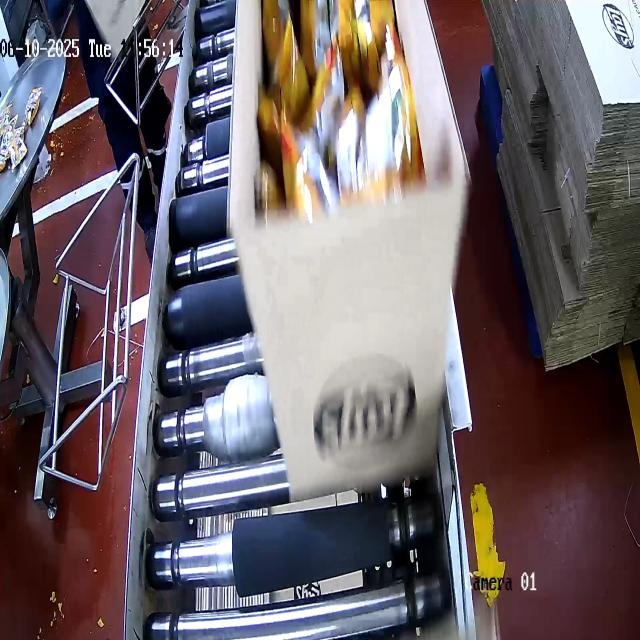FRENCH_CHEESE: (257, 0, 410, 210)
